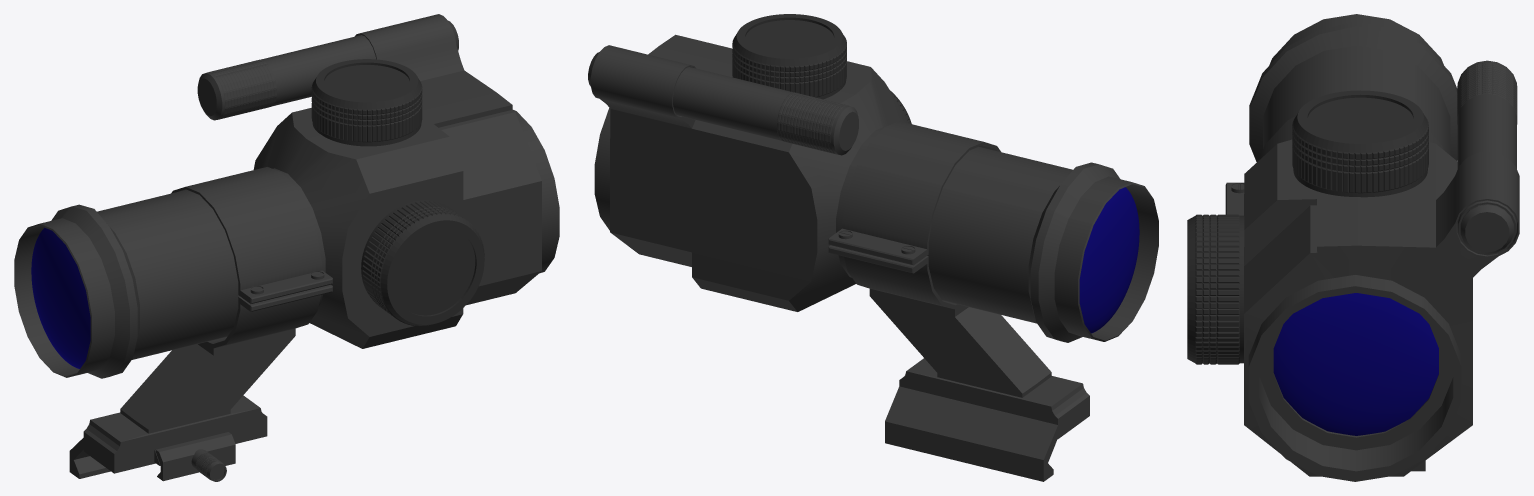
Rendered from pk23lowpoly.FBX.
3 views of the same model, side by side, from view 1: azimuth 30°, elevation 25°; view 2: azimuth 150°, elevation 25°; view 3: azimuth 270°, elevation 25° (orthographic). The views are drawn at different scales.
Visible parts, largest first — view 1: Scope, body1, Lens; view 2: Scope, body1, Lens; view 3: Scope, body1, Lens.
Boxes of the visible parts, <box> form: Scope: <box>14,14,559,481</box>; body1: <box>311,59,484,326</box>; Lens: <box>31,227,90,368</box>; Scope: <box>588,34,1158,481</box>; body1: <box>732,14,911,123</box>; Lens: <box>1079,187,1139,333</box>; Scope: <box>1225,14,1519,481</box>; body1: <box>1187,90,1428,364</box>; Lens: <box>1273,293,1438,435</box>.
Bounding box in the file's own units: 102 × 72.29 × 51.17.
